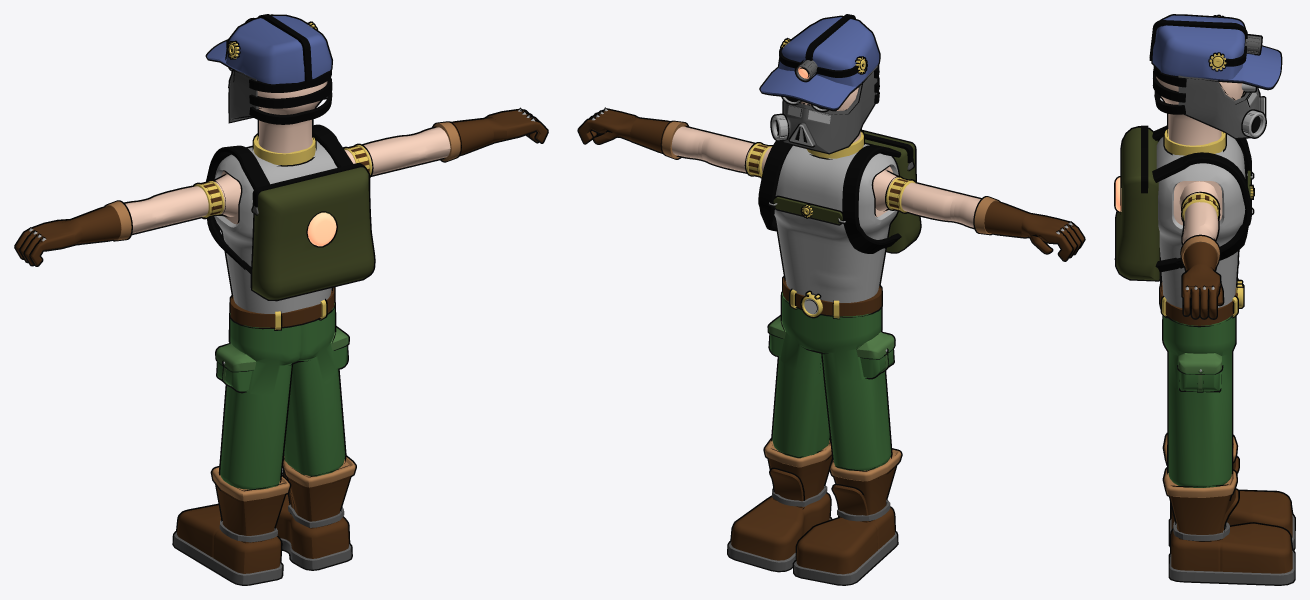
Rendered from Character1.fbx.
3 renders of one model, left to right at view 1: azimuth 30°, elevation 25°; view 2: azimuth 150°, elevation 25°; view 3: azimuth 270°, elevation 25°, orthographic. The views are drawn at different scales.
Visible parts, largest first — view 1: Top.001; view 2: Top.001; view 3: Top.001.
Part boxes in pixels (box(x1,y1,x2,y2)): Top.001: box(14, 14, 548, 585); Top.001: box(577, 14, 1085, 585); Top.001: box(1114, 14, 1295, 585).
Bounding box in the file's own units: 1232 × 1222 × 375.
